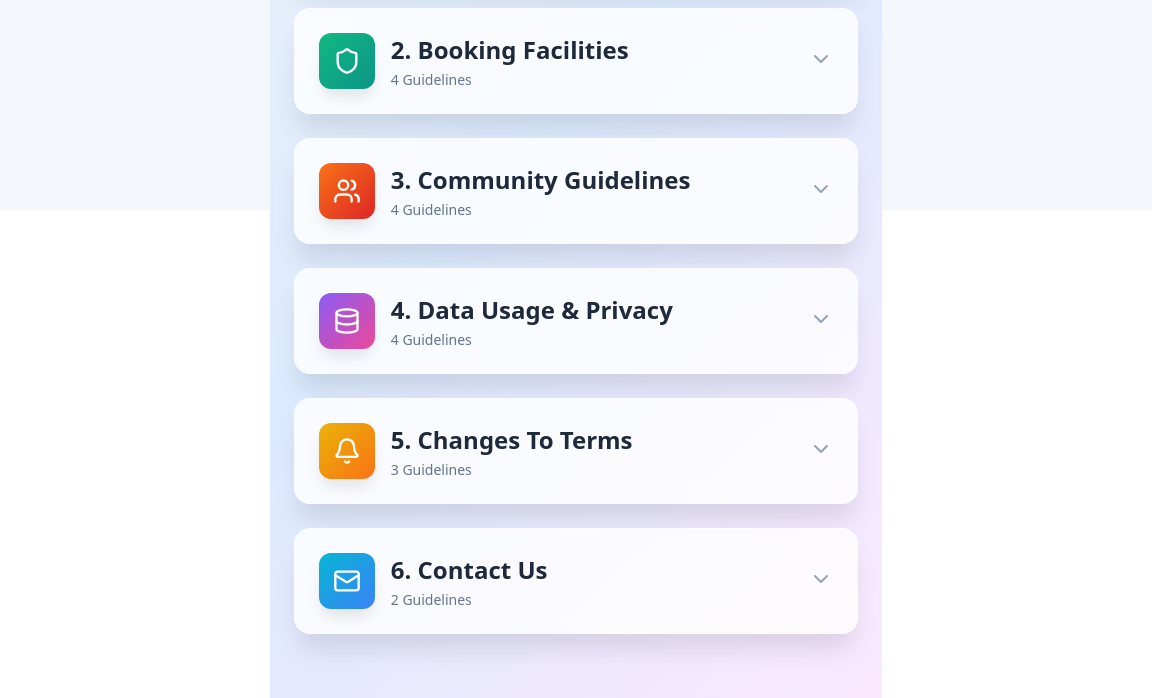
Test case: TermsOfUsePage Component › renders Contact Us section content when expanded
(page scrolled)
Step 1. Click the button "6. Contact Us 2 guidelines" → click(347, 581), box [295, 529, 857, 633]
(page scrolled)
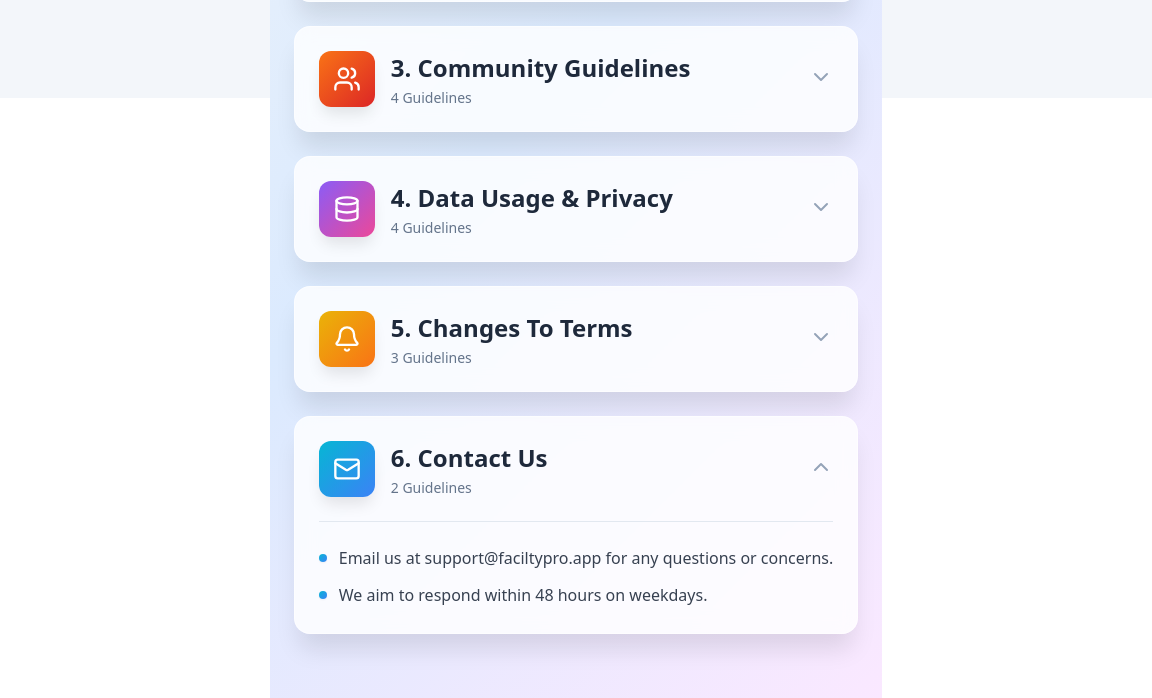
Check: the text "Email us at support@faciltypro.app for any questions or concerns." is shown, box [339, 546, 833, 571]
Check: the text "We aim to respond within 48 hours on weekdays." is shown, box [339, 584, 707, 606]
